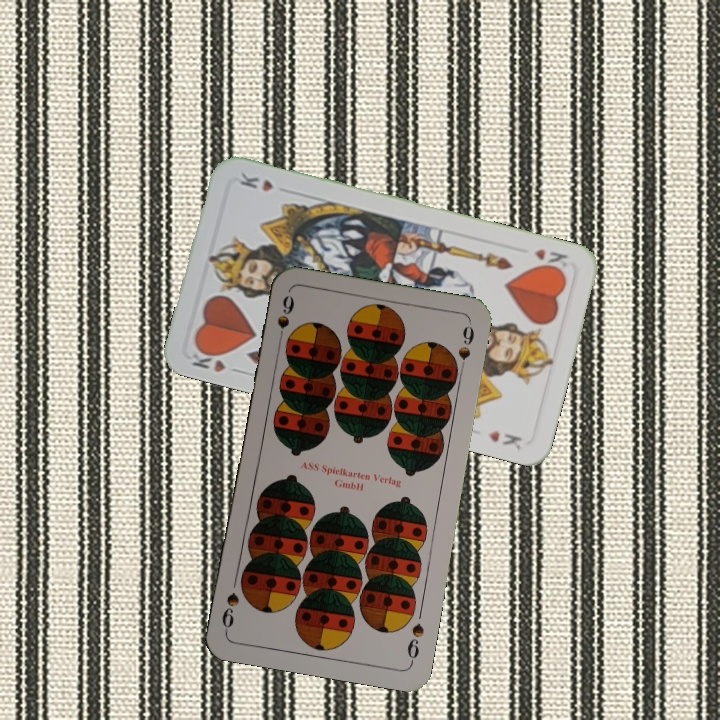HK: (187, 342, 245, 376), (530, 244, 571, 275)
S9: (403, 619, 427, 666), (273, 291, 297, 335)
